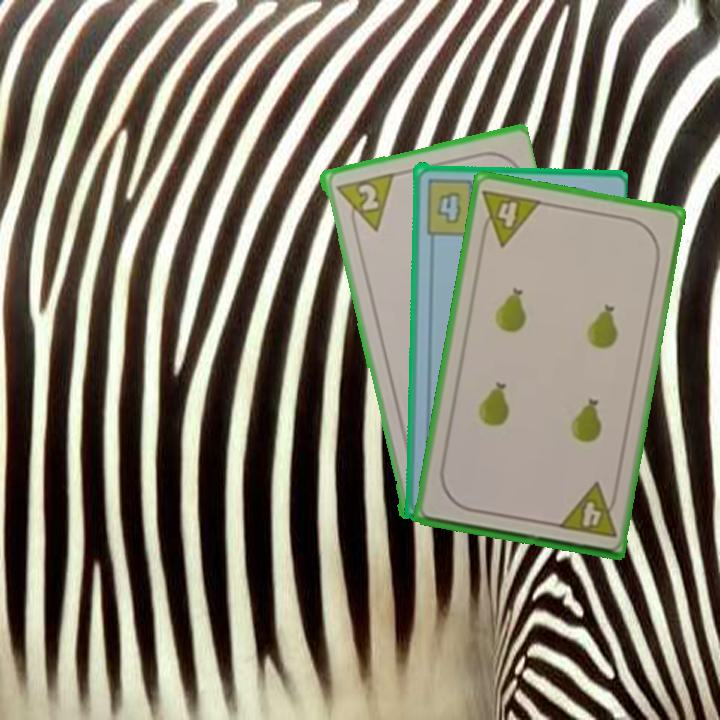2p: (332, 169, 395, 237)
4b: (422, 175, 486, 237)
4p: (476, 185, 544, 249), (554, 479, 621, 541)
